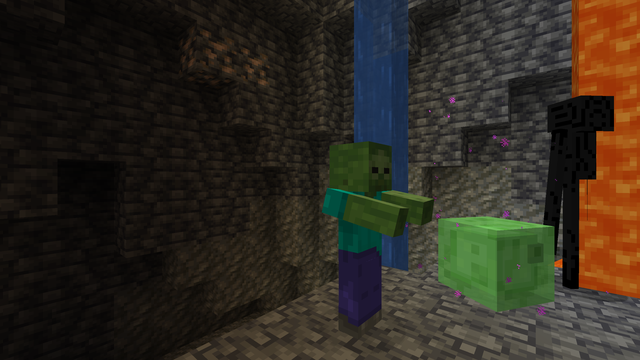endermens: (551, 85, 612, 299)
slimes: (443, 213, 537, 317)
zombies: (323, 145, 397, 349)
